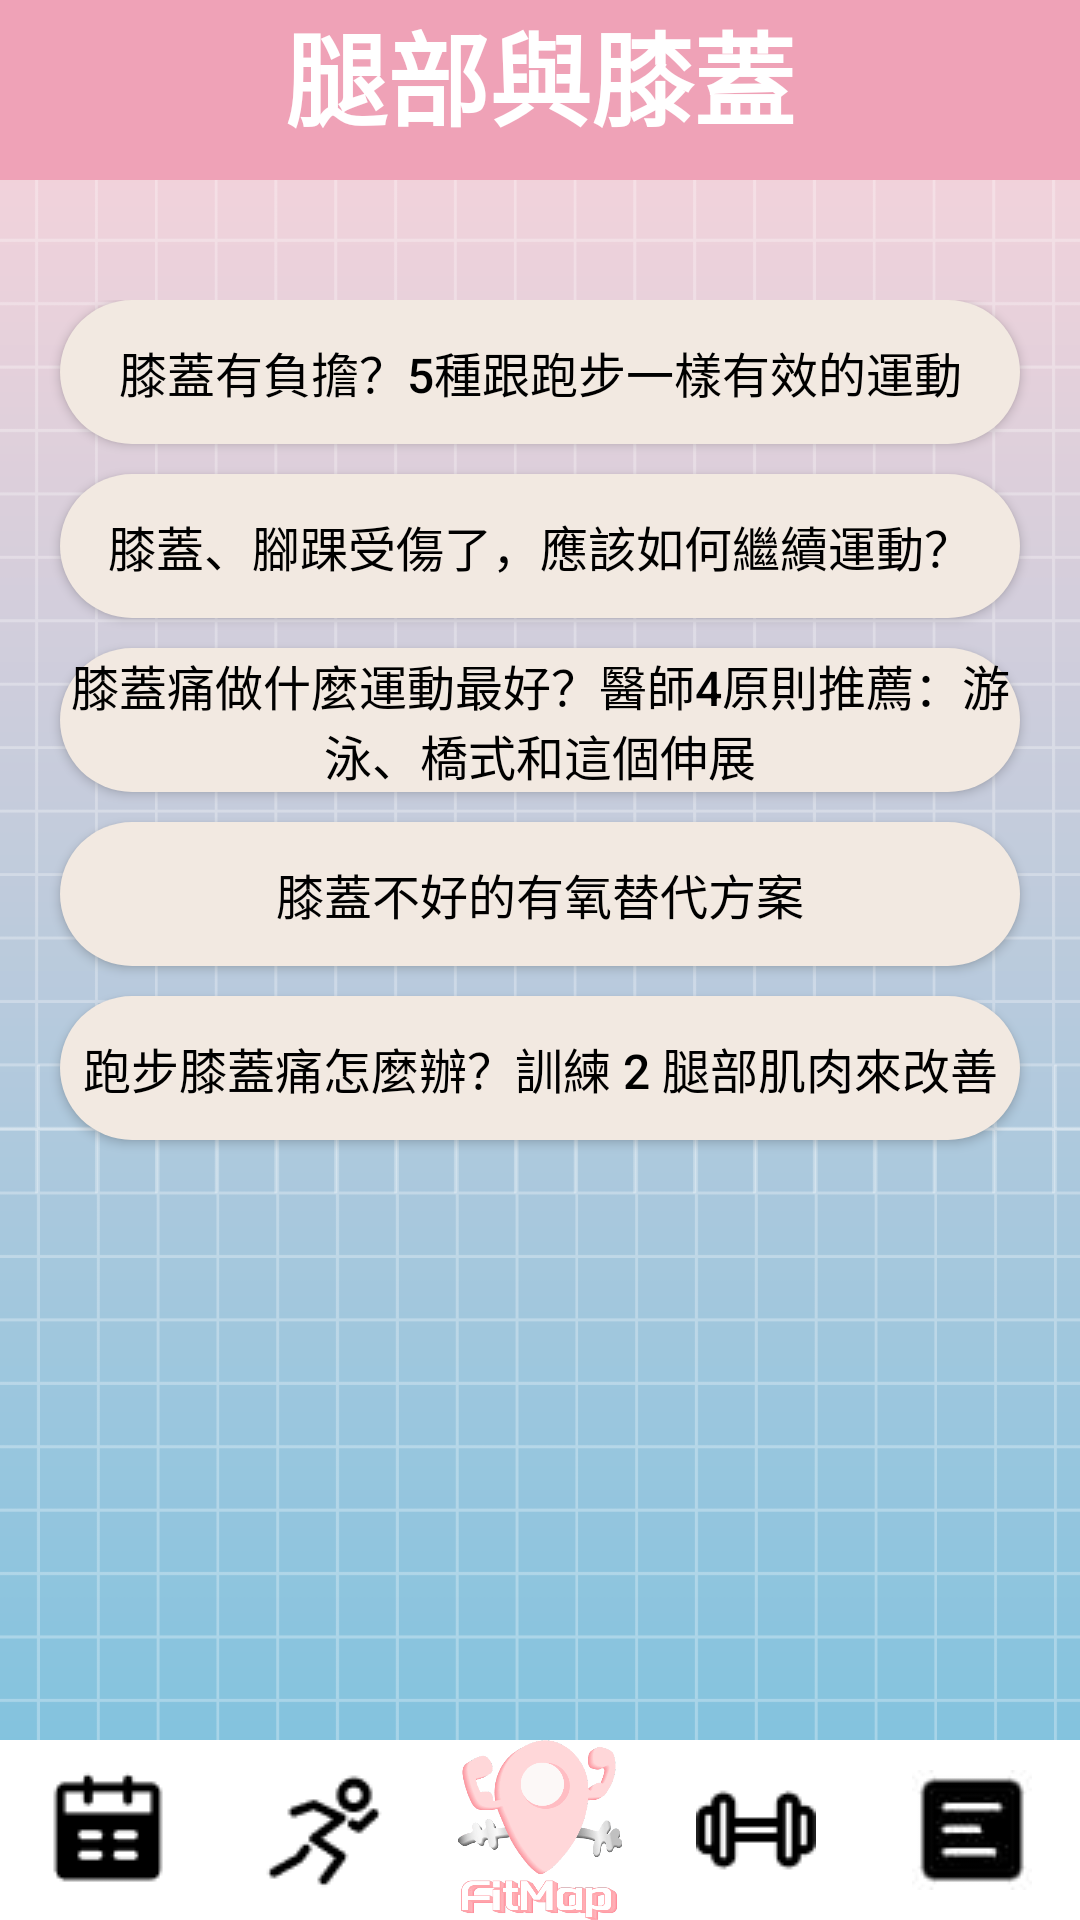

Screen size 1080*1920. Icon name, then its box in pixels as {"x1": x1, "y1": y1, "x2": x2, "y2": y2}:
article: {"x1": 920, "y1": 1778, "x2": 1024, "y2": 1882}
reservation: {"x1": 53, "y1": 1774, "x2": 163, "y2": 1882}
run: {"x1": 268, "y1": 1775, "x2": 380, "y2": 1885}
